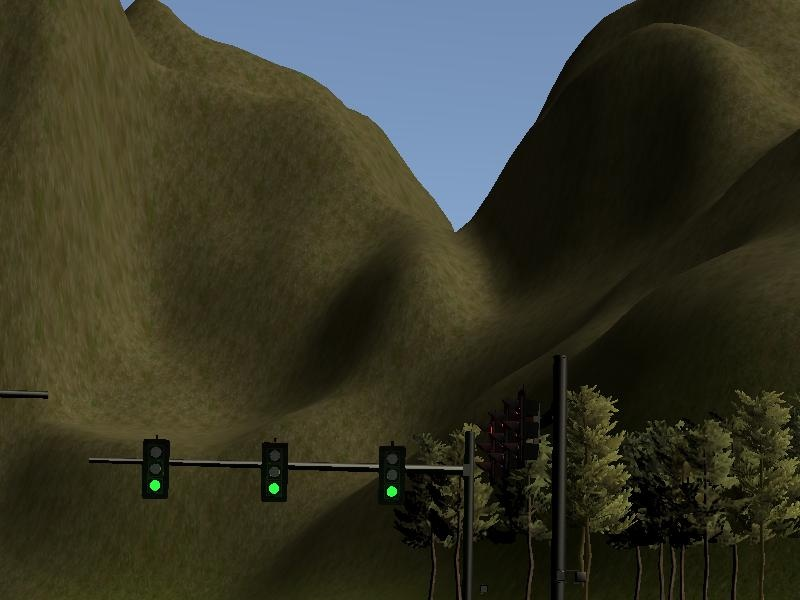traffic_light_green: (87, 434, 447, 505)
